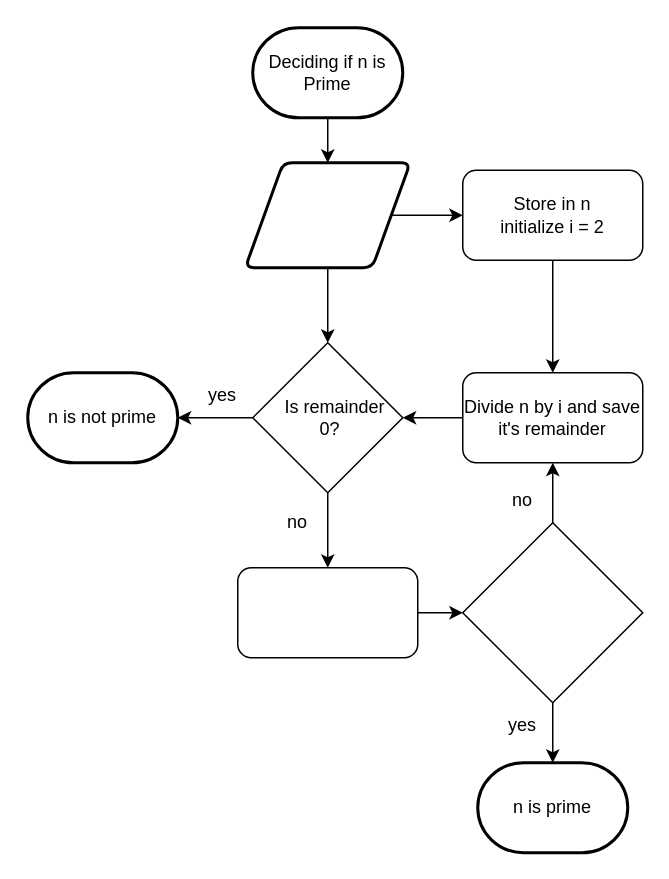
This 669x879 diagram has some shape labels left out. The shapes that lost their labels are listed below. From the top down, each one's centre as x and y in pixels, then its label:
At point 327,214: "Get user input from prompt".
At point 327,612: "Increment i by one".
At point 552,612: "is i greater or equal to sqrt(n)?".
